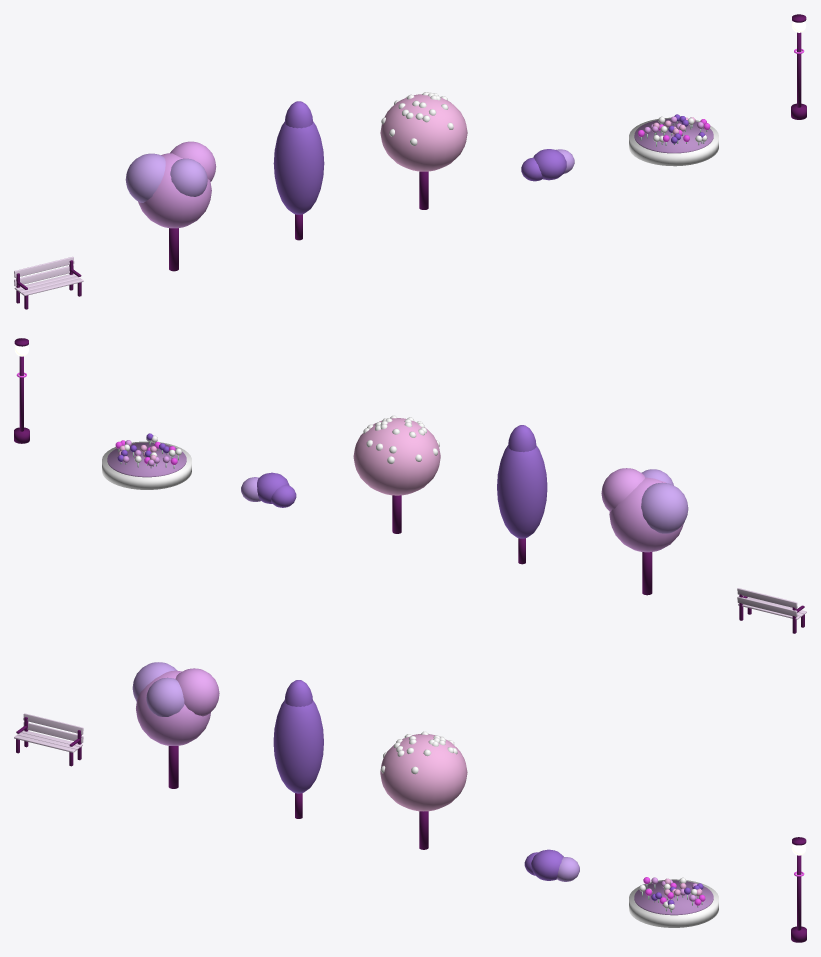
Rendered from park.glb.
3 renders of one model, top to bottom at view 1: azimuth 30°, elevation 25°; view 2: azimuth 150°, elevation 25°; view 3: azimuth 330°, elevation 25°, orthographic.
Visible parts, largest first — view 1: Crown.005, Crown.004, Crown, BedWall, Crown.002, BedSoil, Crown.003, Crown.001, Blob, CrownTop; view 2: Crown.005, Crown.004, Crown, Crown.002, BedWall, BedSoil, Crown.001, Blob, CrownTop; view 3: Crown.005, Crown.004, Crown, Crown.001, BedWall, BedSoil, Crown.003, Blob, Crown.002, CrownTop.
Part boxes in pixels (x1=…): Crown.005: x1=380, y1=94, x2=467, y2=171; Crown.004: x1=273, y1=121, x2=324, y2=214; Crown: x1=138, y1=153, x2=211, y2=228; BedWall: x1=629, y1=117, x2=718, y2=166; Crown.002: x1=125, y1=153, x2=165, y2=202; BedSoil: x1=634, y1=118, x2=713, y2=153; Crown.003: x1=170, y1=158, x2=207, y2=196; Crown.001: x1=170, y1=141, x2=216, y2=181; Blob: x1=533, y1=149, x2=566, y2=180; CrownTop: x1=285, y1=101, x2=312, y2=128; Crown.005: x1=353, y1=418, x2=440, y2=495; Crown.004: x1=497, y1=445, x2=547, y2=538; Crown: x1=609, y1=477, x2=683, y2=552; Crown.002: x1=641, y1=482, x2=688, y2=533; BedWall: x1=102, y1=441, x2=191, y2=489; BedSoil: x1=107, y1=442, x2=186, y2=477; Crown.001: x1=601, y1=468, x2=645, y2=511; Blob: x1=257, y1=472, x2=289, y2=503; CrownTop: x1=508, y1=425, x2=536, y2=452; Crown.005: x1=380, y1=734, x2=467, y2=811; Crown.004: x1=273, y1=700, x2=323, y2=793; Crown: x1=136, y1=670, x2=210, y2=745; Crown.001: x1=175, y1=668, x2=219, y2=716; BedWall: x1=629, y1=879, x2=718, y2=927; BedSoil: x1=634, y1=880, x2=713, y2=915; Crown.003: x1=146, y1=677, x2=184, y2=716; Blob: x1=531, y1=849, x2=563, y2=880; Crown.002: x1=132, y1=662, x2=176, y2=701; CrownTop: x1=284, y1=680, x2=312, y2=706.
Bounding box in the file's own units: 25.17 × 4.2 × 2.5.
